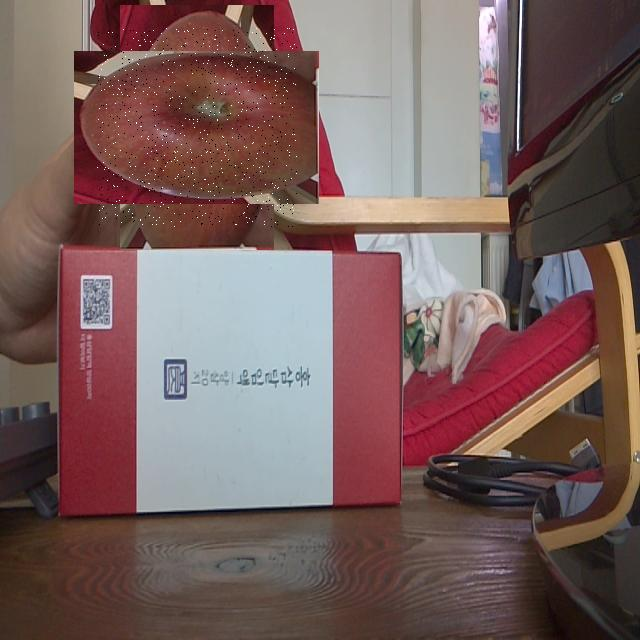apple: (97, 28, 297, 227)
